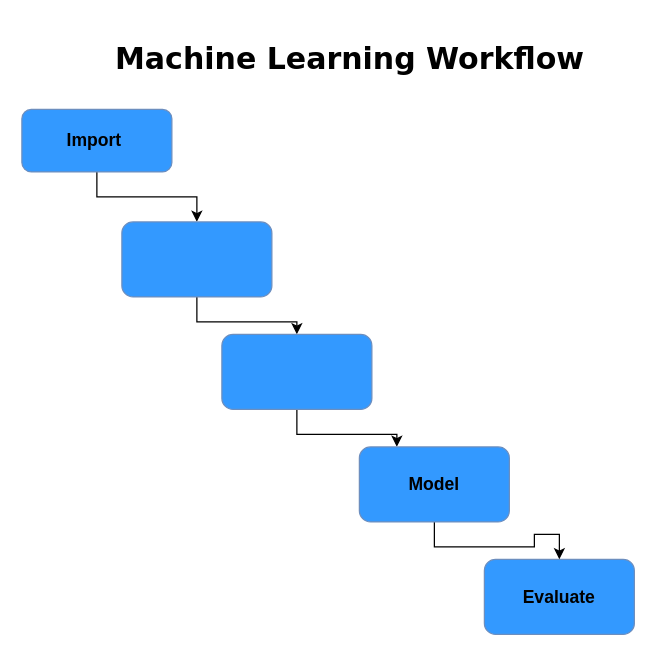
Some shapes in this 656 by 656 pixel diagram are drawn without their labels. The centre of each missing label's shape, as x and y in pixels:
"Process" belongs at point (196, 259).
"Visualize" belongs at point (296, 371).
